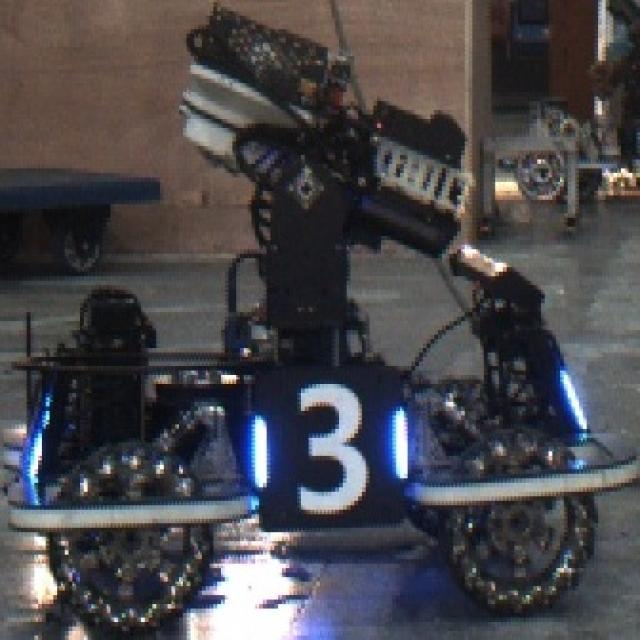B3: (250, 382, 413, 514)
